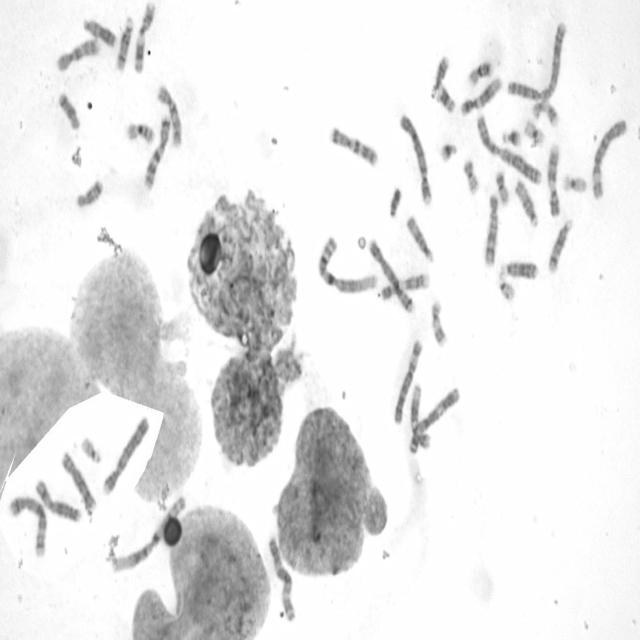A1: (110, 493, 186, 575), (317, 235, 379, 292)
A2: (507, 21, 568, 104), (477, 112, 542, 186)
A3: (408, 386, 461, 456), (268, 534, 295, 622)
B4: (102, 414, 150, 497), (398, 112, 434, 208)
B5: (367, 238, 415, 314), (10, 494, 48, 558)
C10: (156, 84, 183, 148), (56, 37, 100, 73)
C11: (134, 2, 156, 74), (435, 53, 457, 113)
C12: (460, 75, 503, 118), (410, 383, 432, 451)
C6: (591, 119, 628, 200), (392, 339, 422, 425)
C7: (143, 115, 172, 191), (328, 126, 379, 166)
C8: (60, 451, 98, 513), (484, 192, 499, 268)
C9: (380, 272, 431, 302), (547, 142, 561, 218)
D13: (82, 16, 118, 48), (501, 261, 540, 279)
D14: (547, 217, 573, 274), (115, 16, 134, 71)
D15: (405, 213, 435, 265), (514, 178, 540, 230)
E16: (126, 120, 156, 147), (468, 59, 494, 88)
E17: (429, 297, 449, 349), (532, 98, 558, 129)
E18: (76, 177, 105, 209), (58, 92, 80, 131)
F19: (524, 119, 548, 148), (563, 172, 588, 197)
F20: (462, 160, 481, 198), (495, 170, 510, 208)
G21: (439, 141, 458, 164), (502, 128, 521, 146)
G22: (79, 435, 102, 466), (498, 271, 517, 304)
X: (34, 479, 84, 523)
Y: (389, 187, 401, 218)
